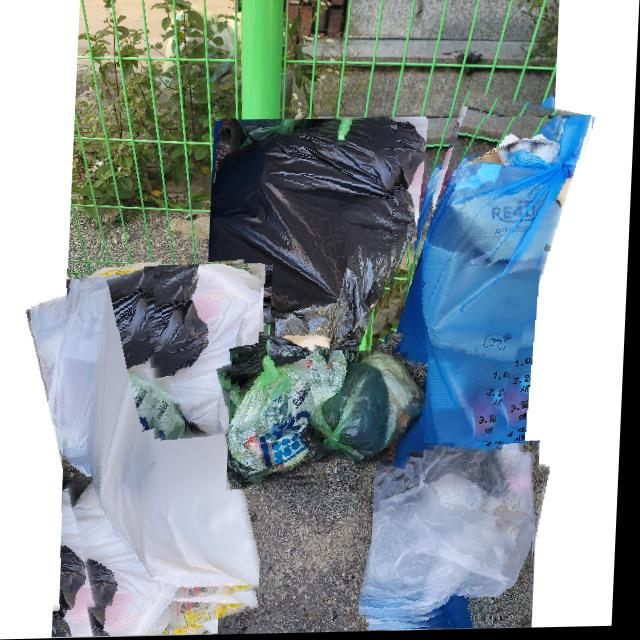general_trashbag: (233, 359, 352, 491), (317, 353, 429, 463)
other_trashbag: (34, 267, 265, 594), (387, 118, 593, 471), (210, 126, 424, 372), (364, 447, 540, 622), (157, 266, 263, 438)
